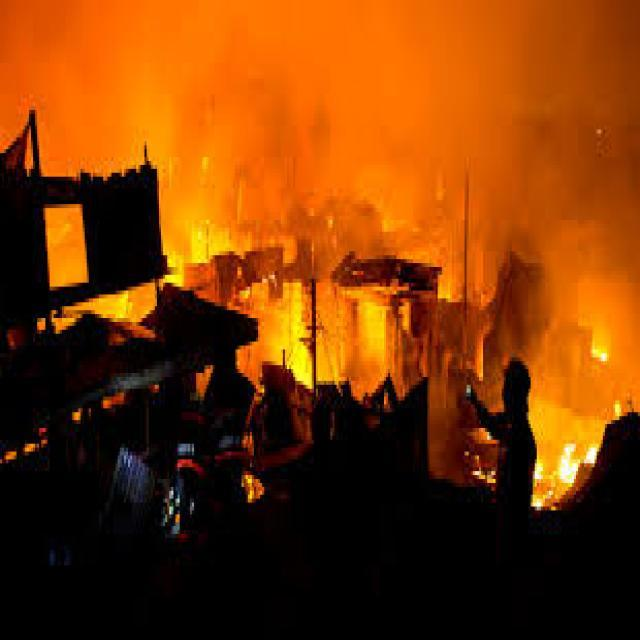Fire: (258, 285, 395, 391), (153, 160, 238, 275), (42, 276, 166, 332), (46, 206, 90, 294), (530, 452, 548, 526), (584, 329, 616, 369), (560, 437, 581, 497), (584, 438, 600, 466), (610, 394, 626, 420)
Smoke: (0, 1, 636, 170), (494, 174, 634, 533)
